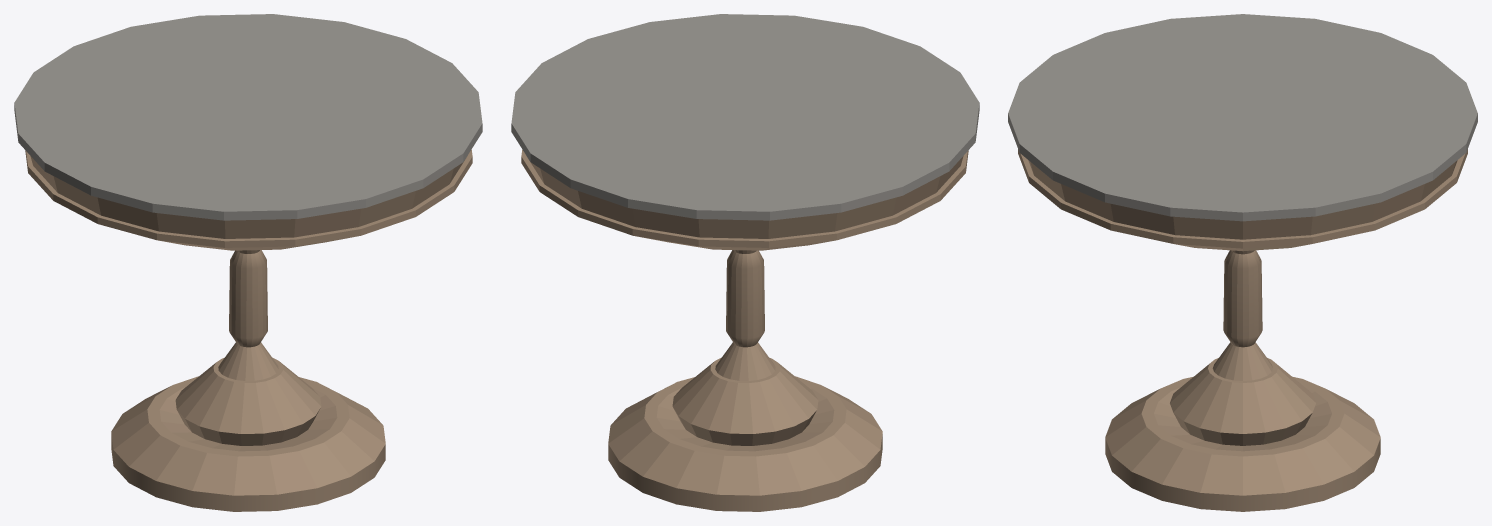
Rendered from TableRoundBasicNormal.glb.
3 renders of one model, left to right at view 1: azimuth 30°, elevation 25°; view 2: azimuth 150°, elevation 25°; view 3: azimuth 270°, elevation 25°, orthographic.
Parts seen in each view (by area): view 1: polySurface2, polySurface1; view 2: polySurface2, polySurface1; view 3: polySurface2, polySurface1.
Part boxes in pixels (box(x1,y1,x2,y2)): polySurface2: box(14, 14, 482, 220); polySurface1: box(25, 150, 472, 511); polySurface2: box(511, 14, 979, 220); polySurface1: box(521, 150, 968, 511); polySurface2: box(1008, 14, 1477, 221); polySurface1: box(1018, 149, 1467, 511).
Bounding box in the file's own units: 26.79 × 21.43 × 26.79.
